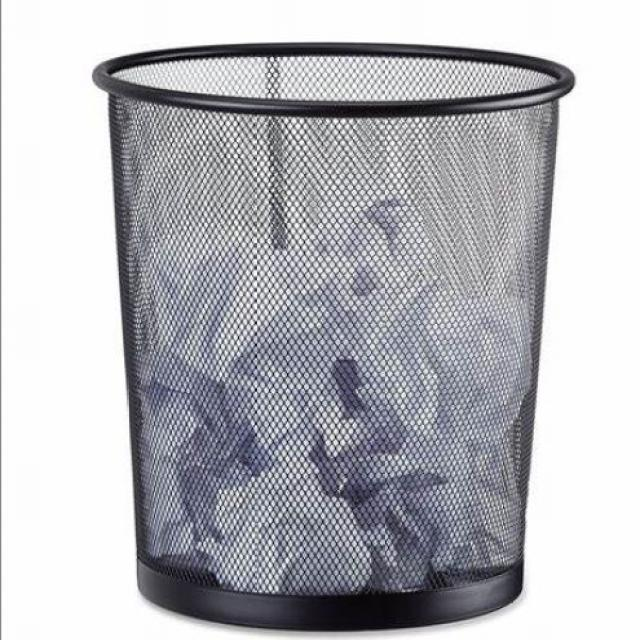dry: (70, 0, 588, 640), (198, 288, 496, 570)
